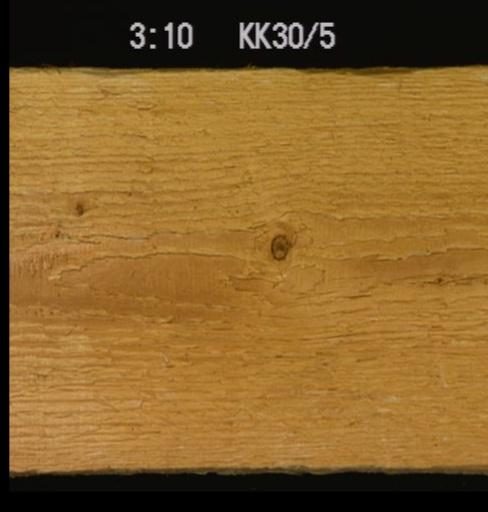dry_knot: (267, 229, 290, 262)
small_knot: (70, 196, 87, 215)
wave: (276, 65, 434, 77), (18, 65, 129, 80)
